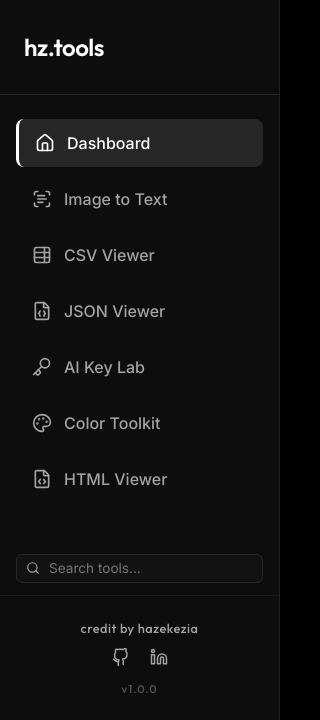
Test case: Sidebar Component › filters navigation items based on search input query
Search for "csv"
Type "csv" into the field with placeholder "Search tools..." at [140, 568], box [16, 554, 263, 583]
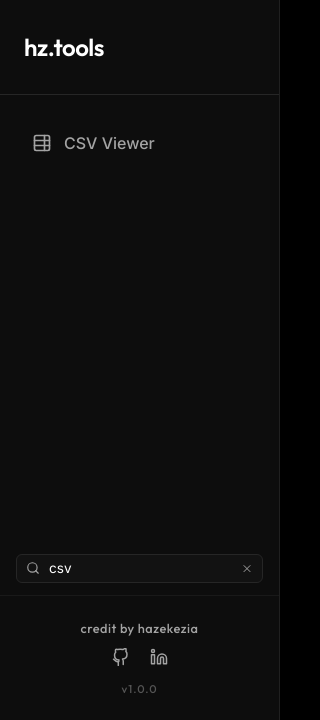
Check: the link "Dashboard" is gone
Check: the link "Image to Text" is gone
Check: the link "JSON Viewer" is gone
